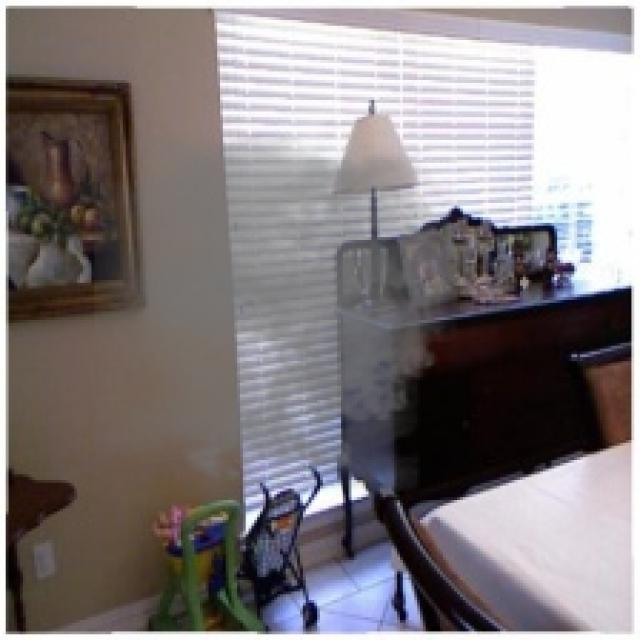smoke: (94, 132, 483, 492)
